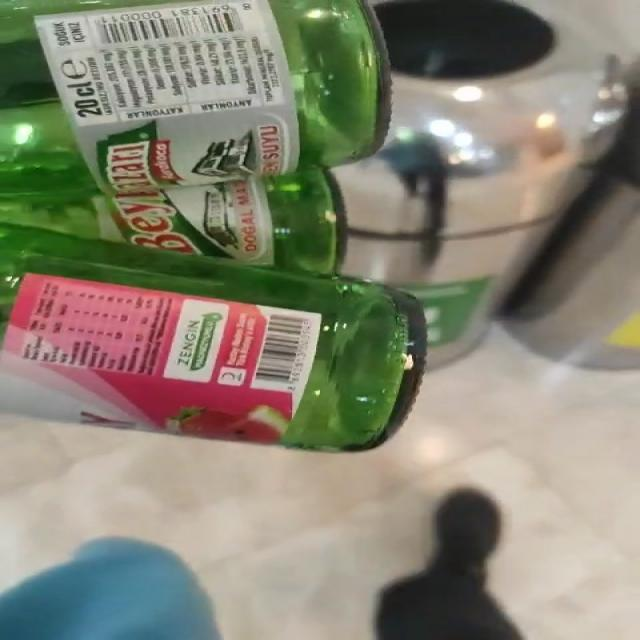Glass: (0, 0, 427, 451)
